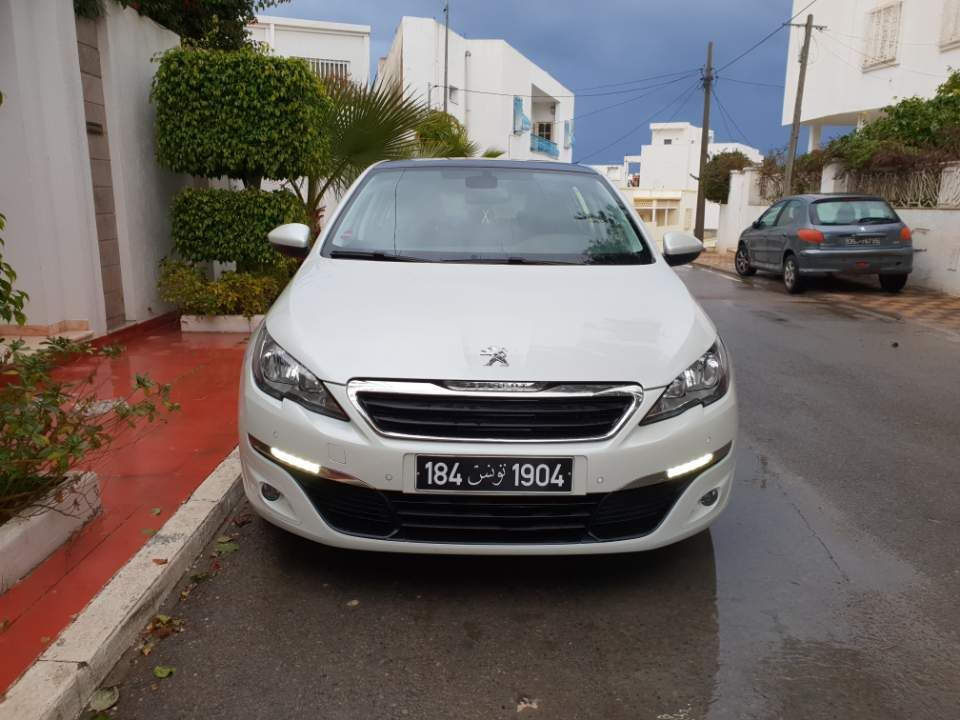LP: (412, 452, 576, 494)
